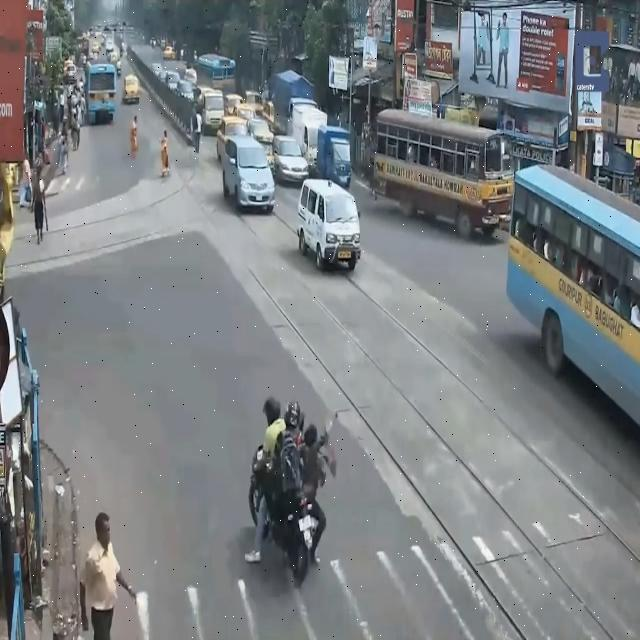accident: (237, 377, 348, 594)
